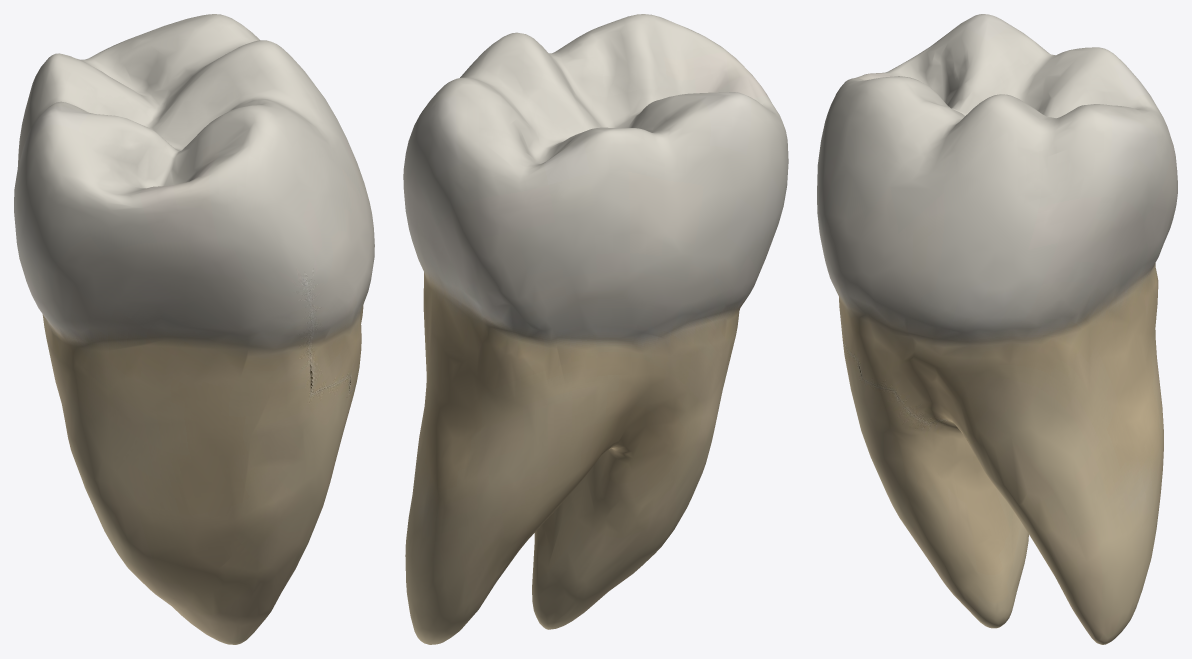
File: mandibular_first_molar.glb
3 renders of one model, left to right at view 1: azimuth 30°, elevation 25°; view 2: azimuth 150°, elevation 25°; view 3: azimuth 270°, elevation 25°, orthographic. The views are drawn at different scales.
Parts seen in each view (by area): view 1: Object_2; view 2: Object_2; view 3: Object_2.
Boxes of the visible parts, left/top/right/bottom form: Object_2: left=14, top=14, right=374, bottom=644; Object_2: left=403, top=14, right=788, bottom=644; Object_2: left=817, top=14, right=1177, bottom=644.
Size of the model in its own units: 1.1 by 1.83 by 1.11.
Materials: 1 (1 with a texture image).
